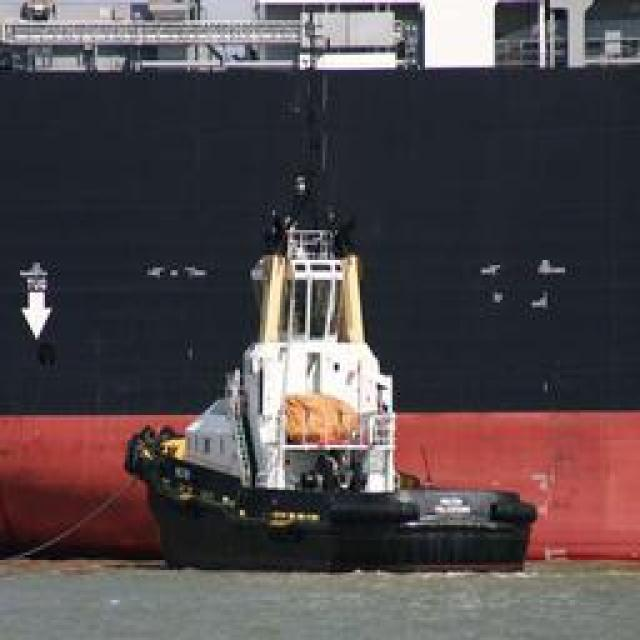CIV_Ship: (125, 284, 553, 576)
